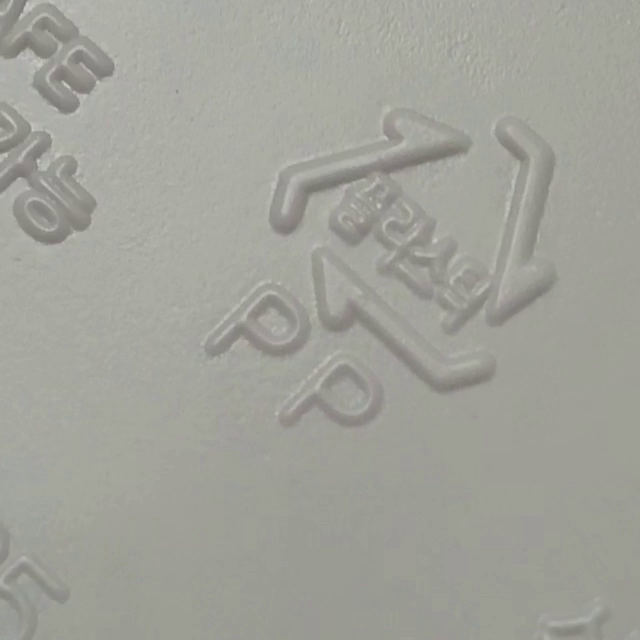Plastic: (267, 110, 559, 395)
